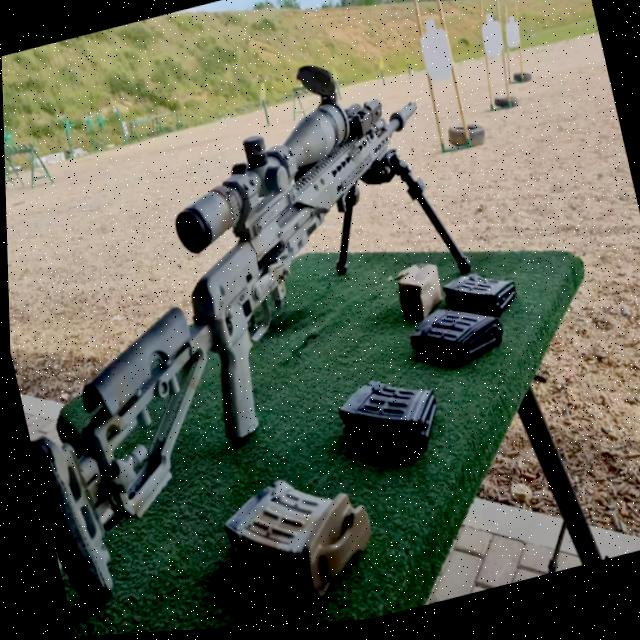firearm: (2, 42, 504, 606)
